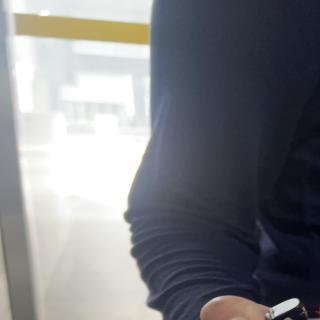fire: (317, 265, 320, 317)
